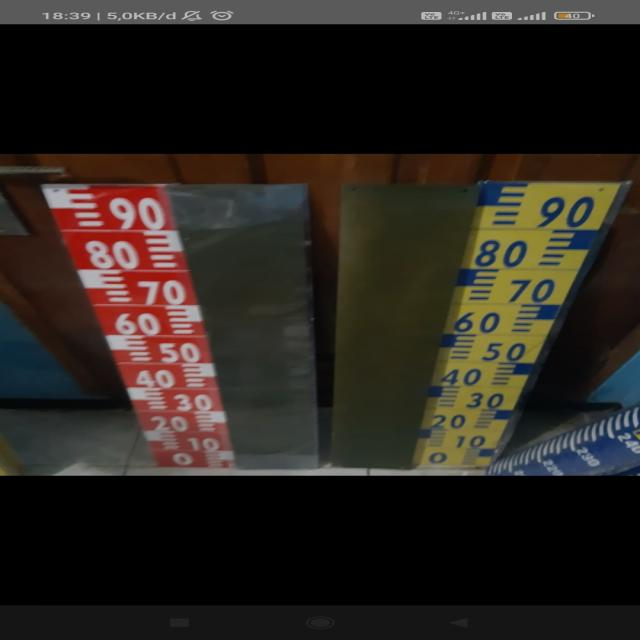10: (182, 434, 227, 452), (450, 433, 492, 451)
20: (146, 414, 192, 434), (430, 415, 471, 429)
30: (464, 392, 511, 411), (171, 392, 213, 413)
40: (438, 366, 486, 387), (128, 368, 179, 387)
50: (481, 339, 536, 364), (153, 341, 202, 365)
60: (449, 309, 508, 335), (110, 309, 165, 335)
70: (134, 278, 190, 308), (504, 276, 560, 304)
80: (75, 239, 146, 270), (472, 238, 530, 267)
90: (531, 193, 605, 230), (106, 195, 166, 230)
staff: (36, 184, 240, 468), (411, 182, 637, 414)
